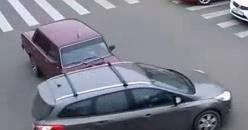car-accident: (21, 17, 238, 127)
